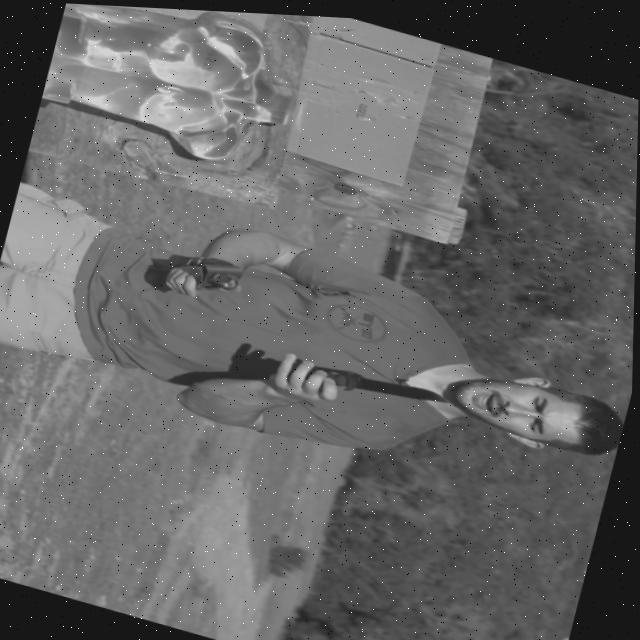knife: (312, 349, 449, 410), (183, 243, 237, 303)
